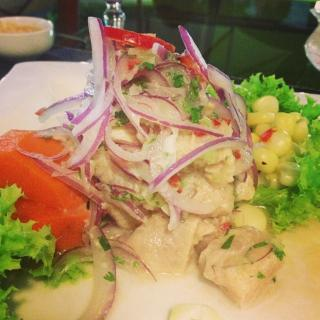Salad: (0, 15, 319, 319)
